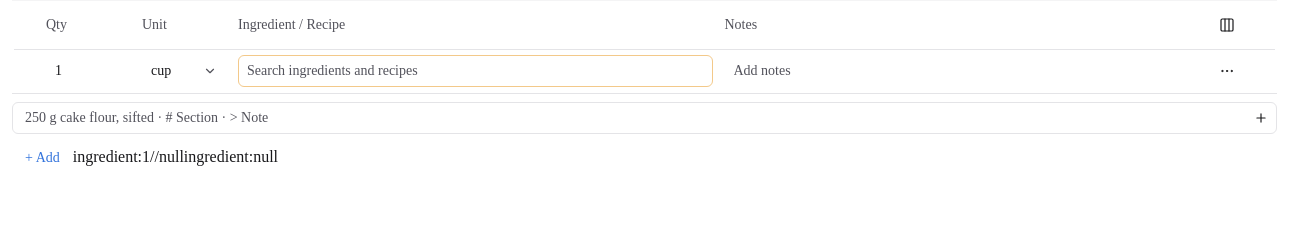
Scenario: recipe items table catalog picker › names the synonym a catalog card was found under
Type "confectioners sugar" into the dropdown named "Ingredient or recipe" at (475, 71), box left=238, top=55, right=712, bottom=87
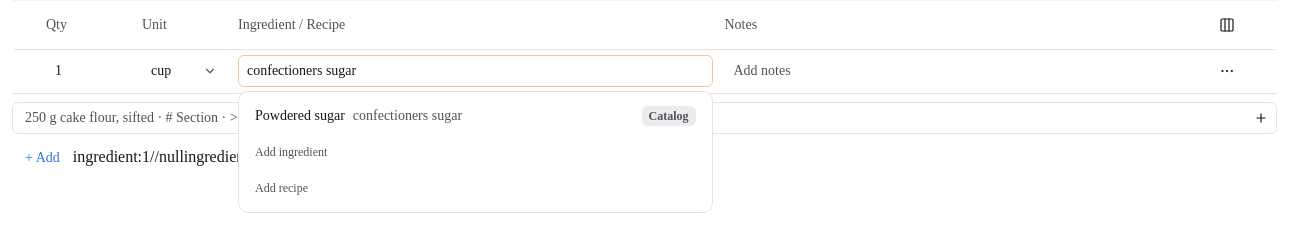
Expected: the option reads "Powdered sugarconfectioners sugar Catalog", left=245, top=98, right=706, bottom=134
